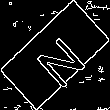N_NW: (24, 23, 86, 87)
